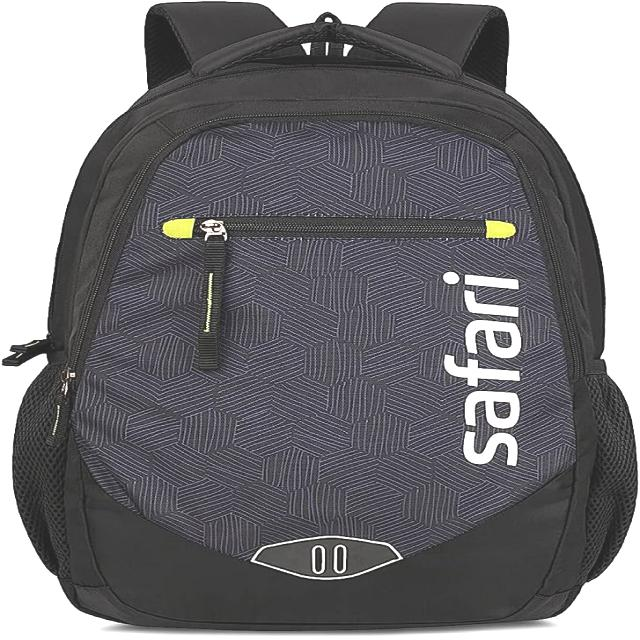backpack: (5, 2, 638, 632)
